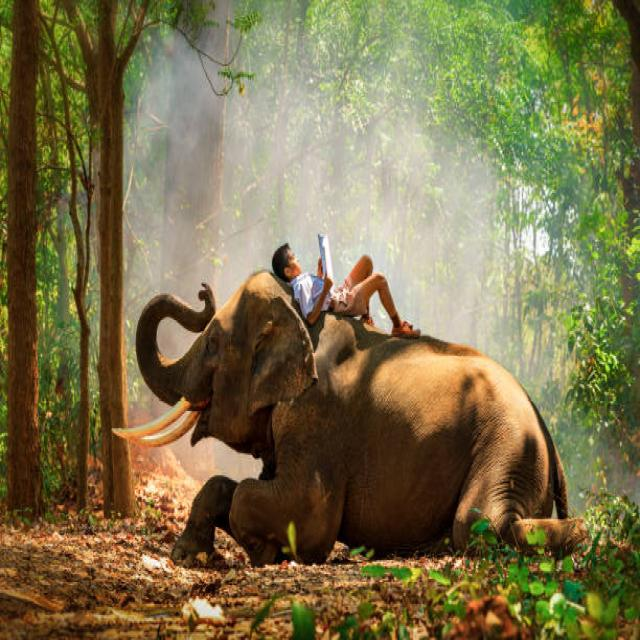Elephant: (104, 225, 589, 556)
